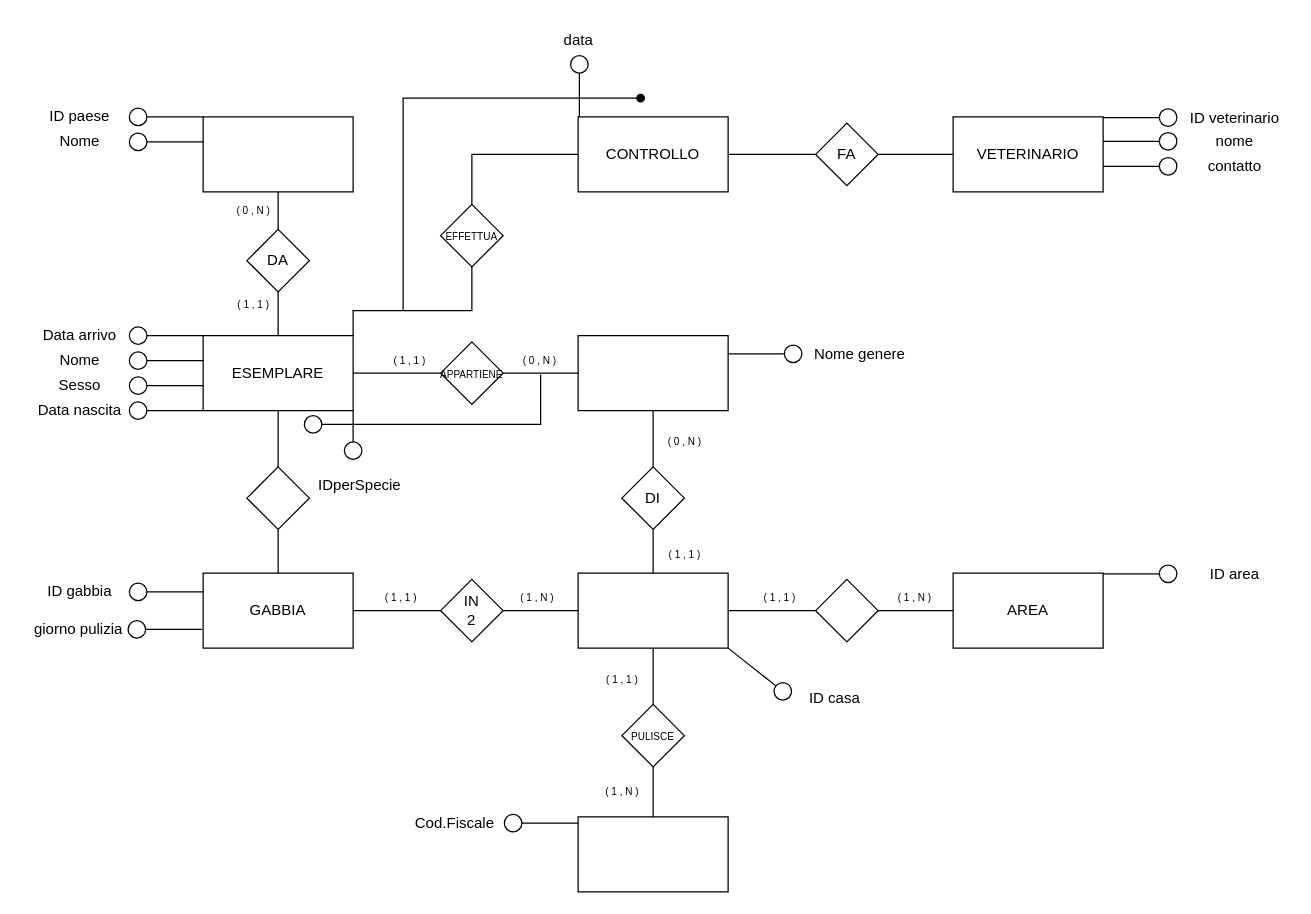
The diagram is 1311 pixels wide and 914 high, and some of its shapes have lost their labels. The shapes that lost their labels are listed below. From the top down, each one's box as (x1, y1, x2, y2) in pixels, then its label:
(202, 116, 353, 192): PAESE
(577, 334, 728, 411): SPECIE
(246, 466, 309, 529): IN 3
(577, 572, 728, 648): CASA
(814, 578, 878, 642): IN
(577, 816, 728, 892): ADDETTO
